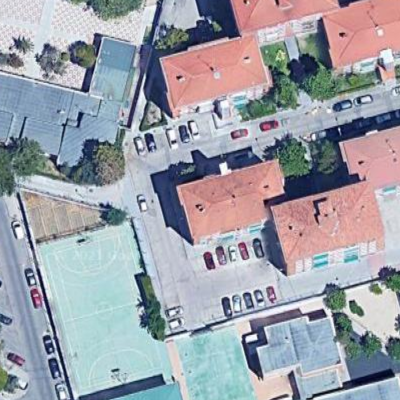tree: (2, 134, 51, 196), (88, 139, 135, 186), (272, 137, 310, 180), (317, 135, 346, 176), (151, 24, 191, 52), (71, 41, 100, 71), (322, 283, 349, 312), (359, 331, 384, 361), (335, 335, 361, 362), (330, 310, 358, 334), (382, 269, 400, 296), (387, 334, 400, 364)
